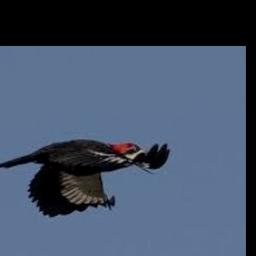Woodpecker: (0, 139, 169, 218)
